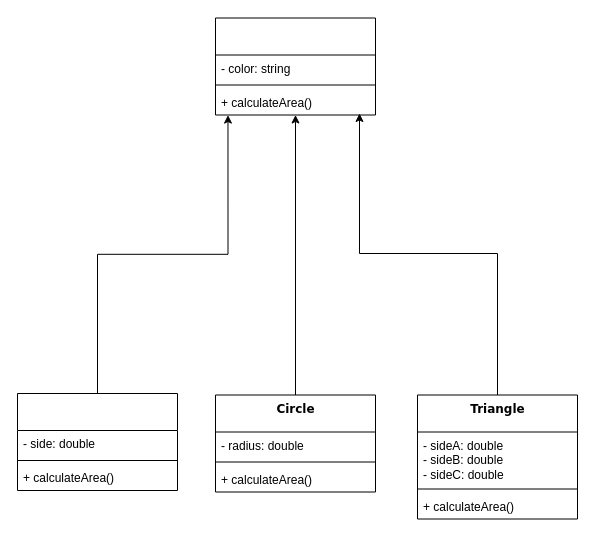
Image size: 595x539. Some labels were removed from this diagram. Each missing label, with the box of its shape:
<<abstract>> Figure: (214, 17, 376, 115)
Square: (16, 392, 178, 490)
